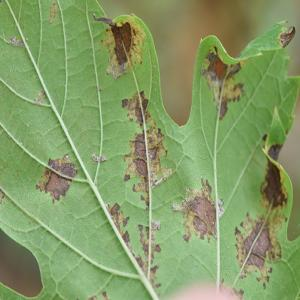Folha: (0, 0, 298, 298)
Fungo: (201, 23, 295, 120), (121, 89, 170, 209), (105, 201, 161, 289), (92, 12, 145, 80), (172, 175, 224, 243), (201, 46, 245, 120), (234, 211, 274, 288), (35, 153, 77, 203), (260, 144, 288, 209), (121, 90, 152, 128), (105, 201, 130, 244), (110, 21, 132, 66), (138, 222, 160, 262), (276, 24, 296, 48), (48, 1, 58, 24), (34, 89, 46, 104), (8, 35, 24, 46), (91, 152, 106, 163), (91, 152, 99, 163), (0, 188, 5, 204), (100, 154, 106, 162), (98, 85, 101, 91)
